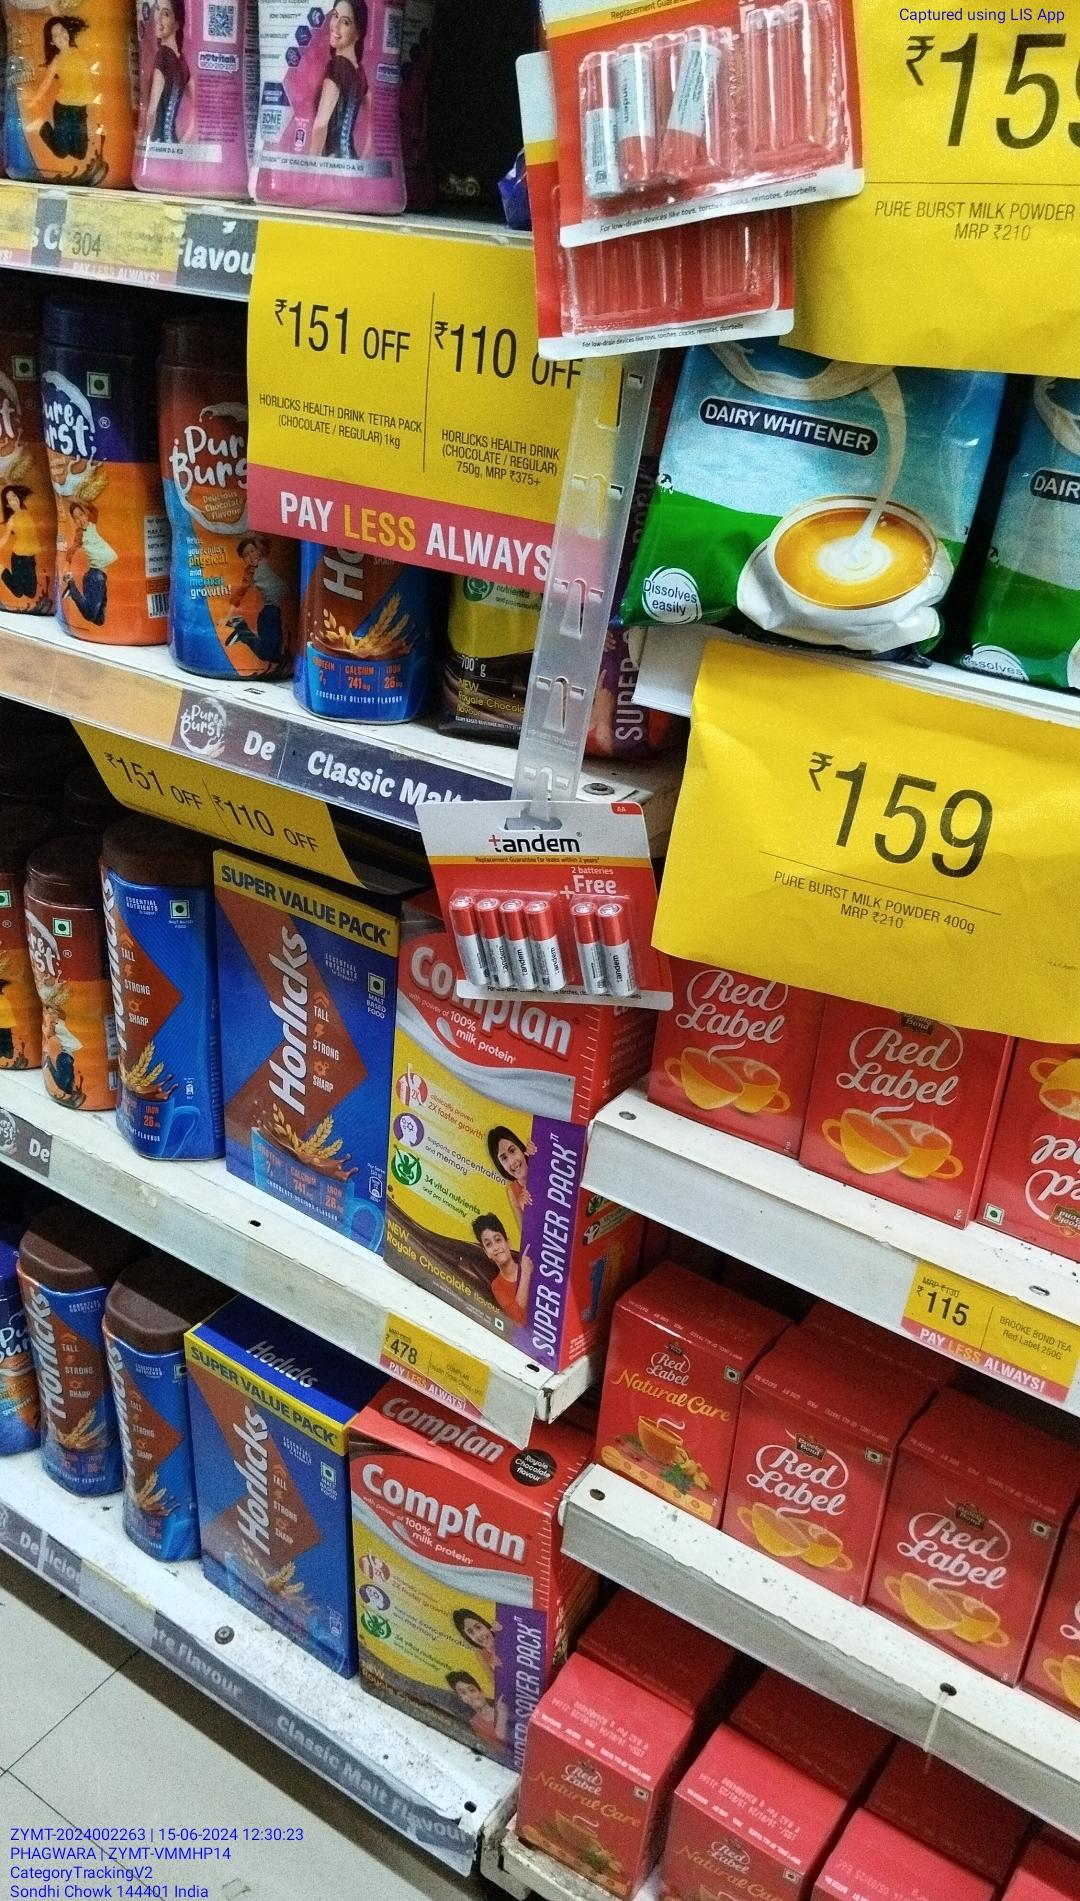COMPLAN_CHOCOLATE_1_KG_PACK: (398, 952, 564, 1363), (357, 1458, 546, 1757)
HORLICK_CHOCOLATE_1_KG_JAR: (106, 840, 204, 1162), (107, 1296, 184, 1565), (22, 1247, 97, 1499)
HORLICK_CHOCOLATE_1_KG_PACK: (195, 1343, 342, 1683)
HORLICK_CHOCOLATE_500_G_PACK: (219, 853, 377, 1238)
